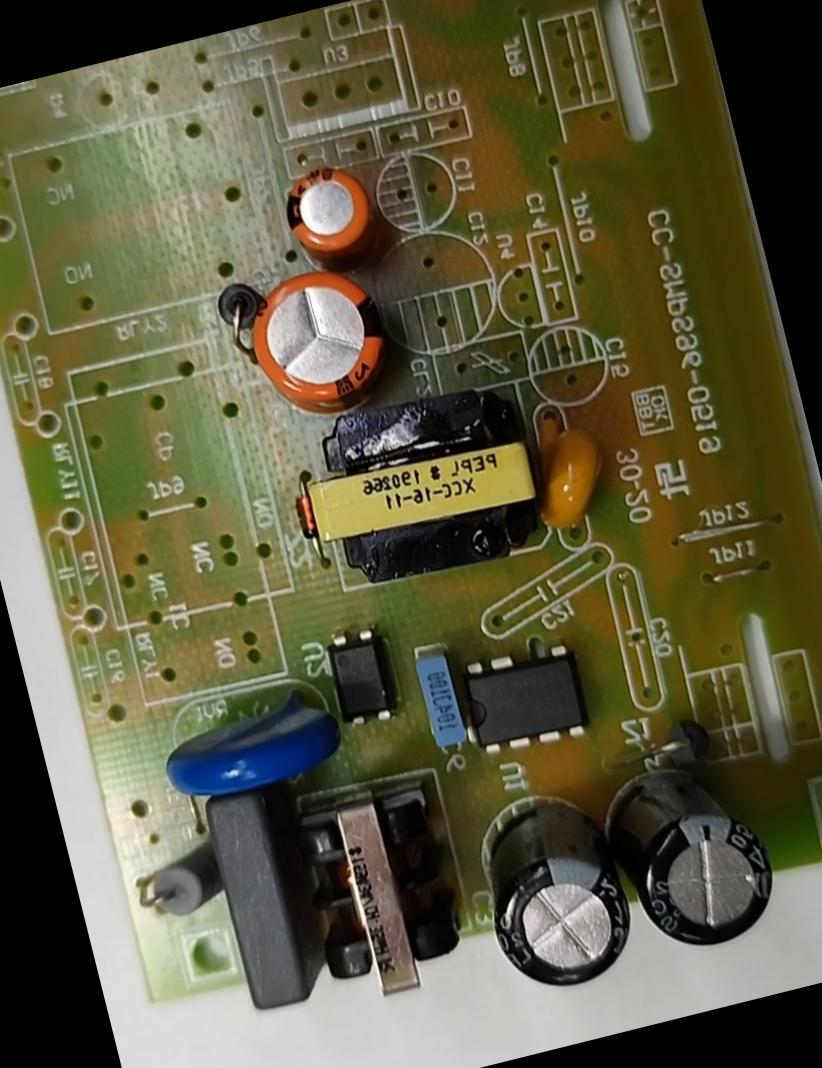Cap1: (226, 247, 411, 435)
Cap2: (250, 136, 397, 284)
Cap3: (445, 762, 658, 1012)
Cap4: (584, 738, 802, 976)
MOSFET: (440, 627, 602, 771)
Mov: (137, 656, 368, 815)
Resistor: (113, 823, 240, 935)
Transformer: (275, 363, 575, 612), (268, 763, 490, 1022)
